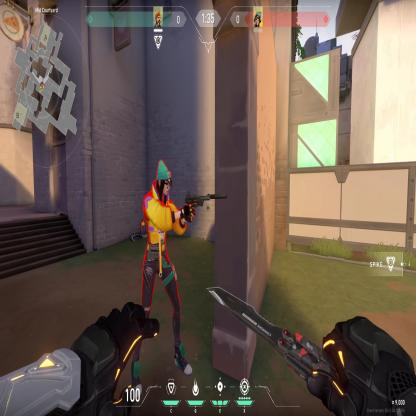enemy: (138, 154, 193, 376)
